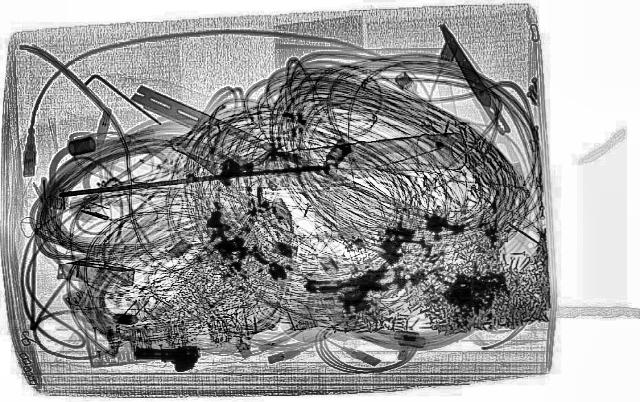Gun: (132, 344, 202, 370)
